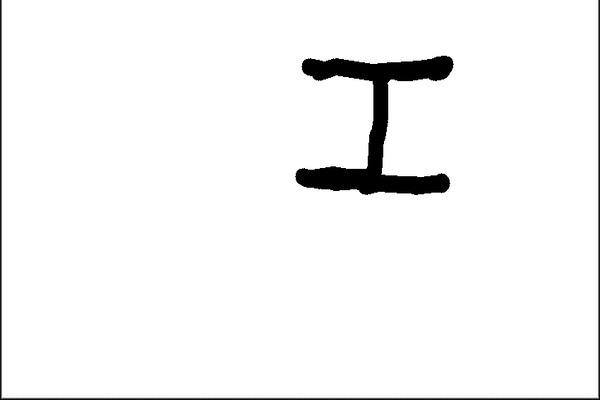i: (294, 45, 469, 199)
